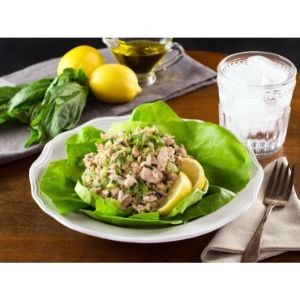tuna_brain food: (82, 116, 194, 229)
